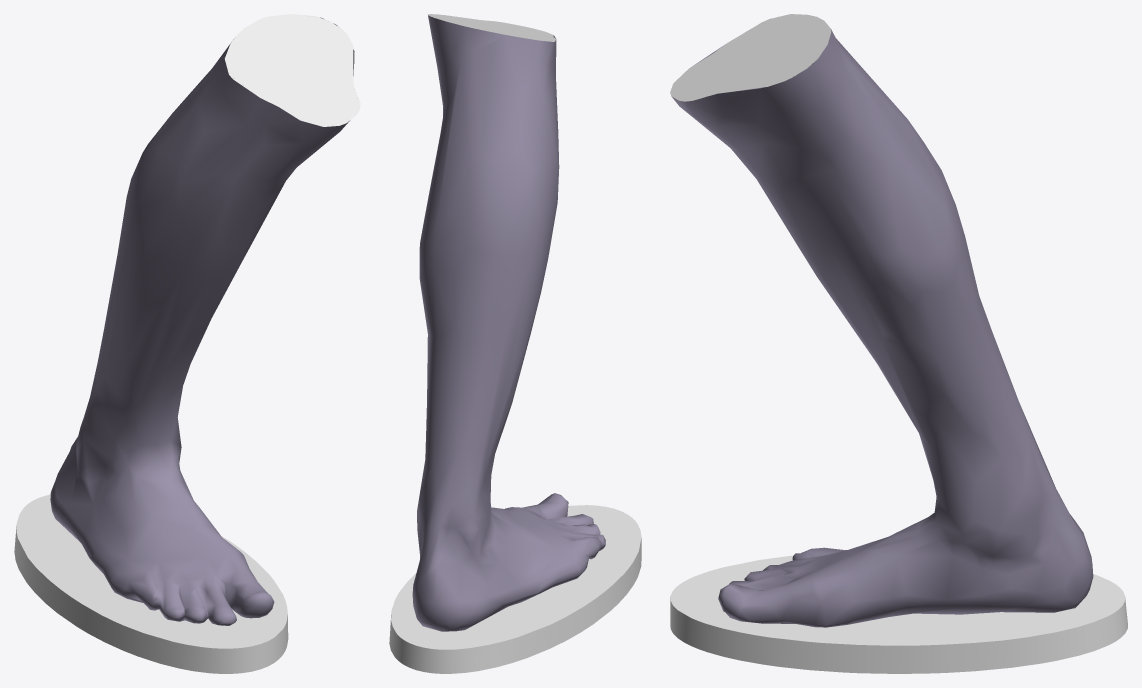
File: 脚_20260324184640_opt.glb
The picture shows the model from 3 angles, left to right: view 1: azimuth 30°, elevation 25°; view 2: azimuth 150°, elevation 25°; view 3: azimuth 270°, elevation 25°; orthographic projection. The views are drawn at different scales.
Visible parts, largest first — view 1: LegsArmands_4_UV_LOW, Kajas3_Support, LegsArmands_4_UV_LOW001; view 2: LegsArmands_4_UV_LOW, Kajas3_Support, LegsArmands_4_UV_LOW001; view 3: LegsArmands_4_UV_LOW, Kajas3_Support, LegsArmands_4_UV_LOW001.
Part boxes in pixels (x1,y1,x2,y2): LegsArmands_4_UV_LOW: (50,17,354,625); Kajas3_Support: (14,494,288,673); LegsArmands_4_UV_LOW001: (224,14,360,126); LegsArmands_4_UV_LOW: (412,15,605,631); Kajas3_Support: (389,505,641,673); LegsArmands_4_UV_LOW001: (428,14,556,41); LegsArmands_4_UV_LOW: (671,29,1093,627); Kajas3_Support: (670,555,1127,673); LegsArmands_4_UV_LOW001: (670,14,831,101).
Size of the model in its own units: 0.1682 by 0.4 by 0.2593.
